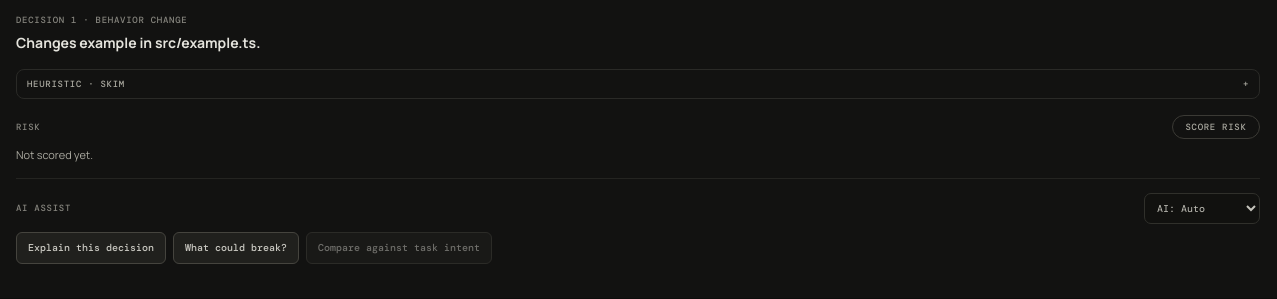
Test: diff review decision detail › renders the 0-100 risk score on demand from the score action
What coordinates should you click on to do the following:
click the button "Score risk"
I would click on:
 (1216, 127)
Its box is [1172,115,1260,139].
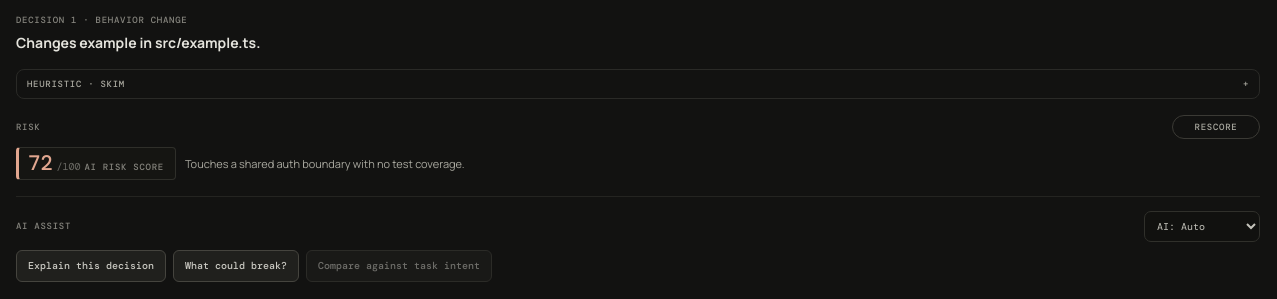
Result: the text "AI risk score 72 /100" is shown at [16,147,176,180]
Result: the text "Touches a shared auth boundary with no test coverage." is shown at [185,156,464,171]
